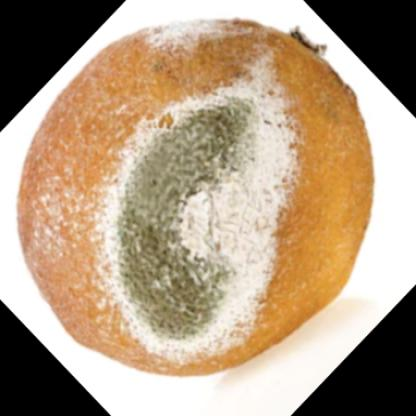rotten: (17, 20, 372, 378)
